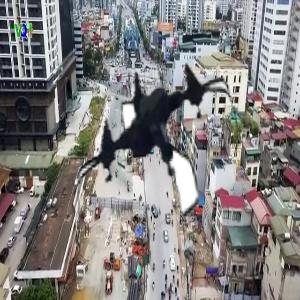drone: (64, 58, 251, 245)
